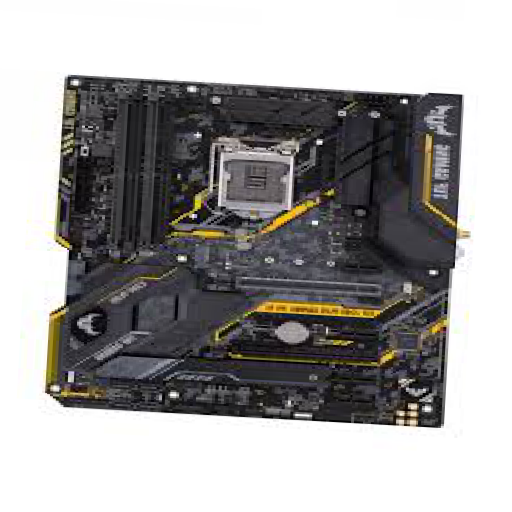CPU: (210, 136, 295, 219)
GPU: (204, 270, 382, 302)
MOTHERBOARD: (44, 74, 464, 428)
RAM: (106, 93, 177, 254)
SSD: (195, 243, 210, 271)
